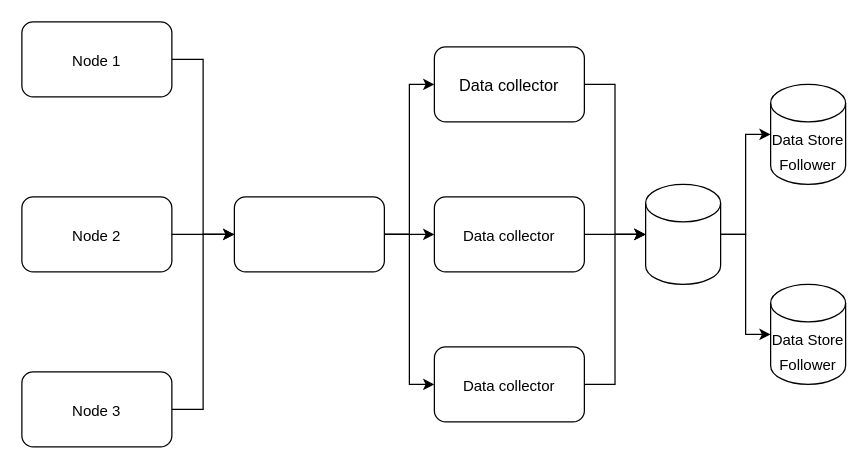
Image size: 868x469. Some labels were removed from this diagram. The centre of each missing label's shape, as x and y in pixels:
"Data Store Leader" goes at pixel 682 233.
"Loadbalancer" goes at pixel 308 234.
